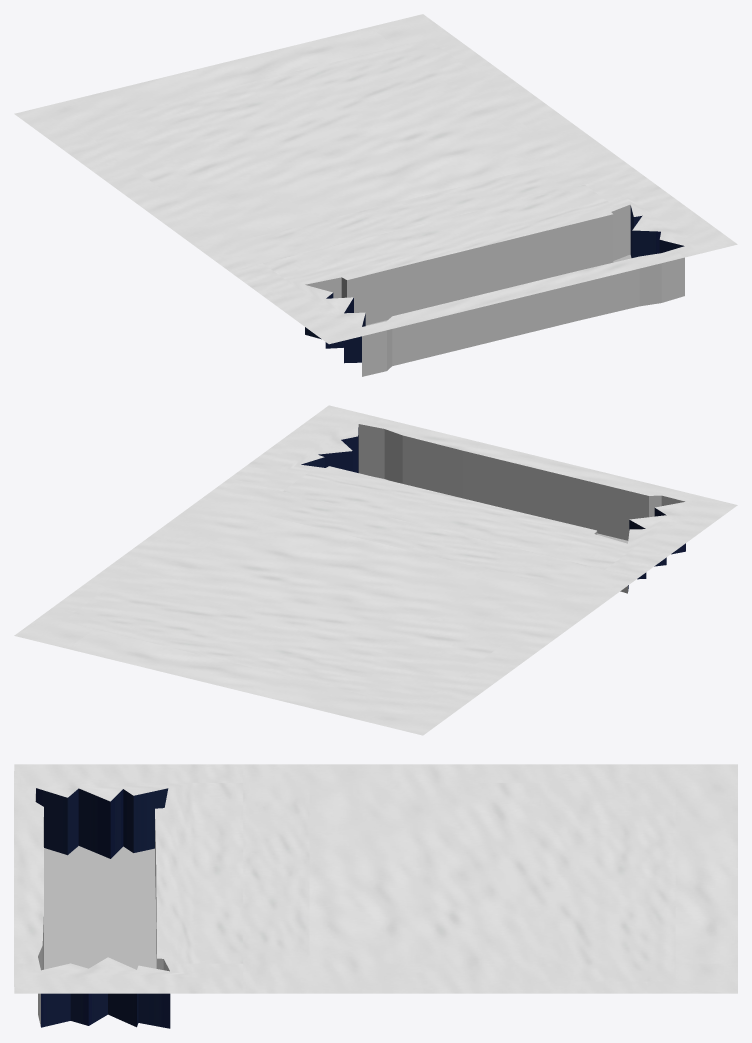
The model's file is trapL01.FBX.
The picture shows the model from 3 angles, top to bottom: view 1: azimuth 30°, elevation 25°; view 2: azimuth 150°, elevation 25°; view 3: azimuth 270°, elevation 25°; orthographic projection. The views are drawn at different scales.
Parts seen in each view (by area): view 1: Object051; view 2: Object051; view 3: Object051.
Part boxes in pixels (x1=…): Object051: x1=14, y1=14, x2=737, y2=376; Object051: x1=14, y1=405, x2=737, y2=735; Object051: x1=14, y1=764, x2=737, y2=1028.
Size of the model in its own units: 600 by 70 by 800.
